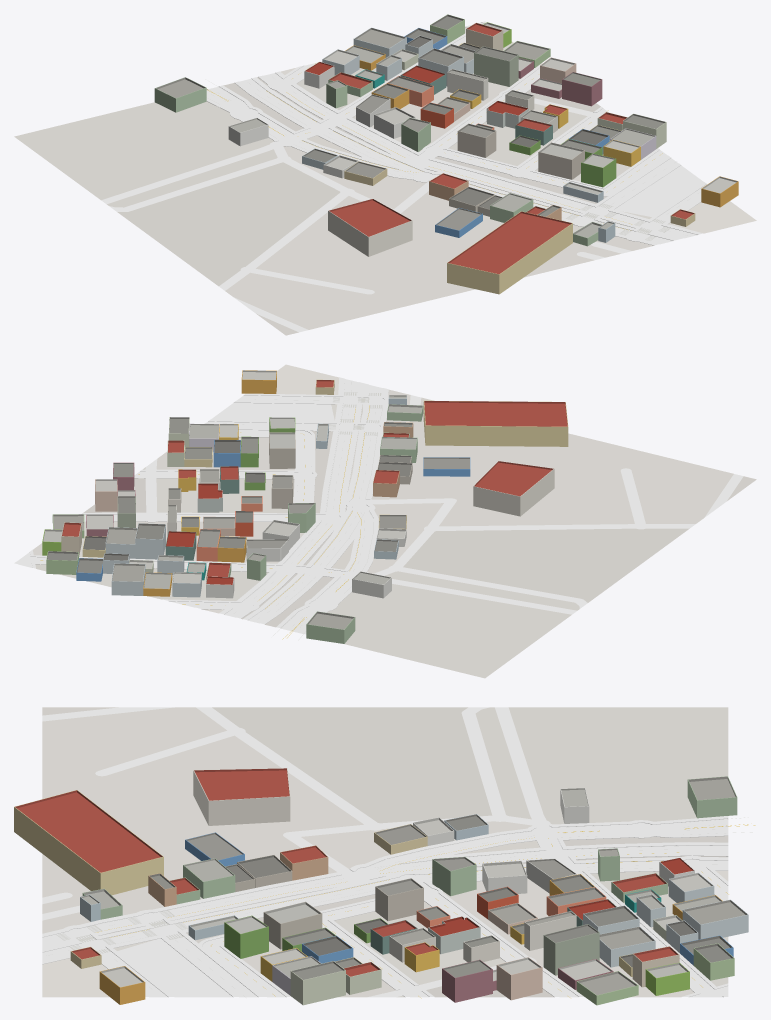
The picture shows the model from 3 angles, top to bottom: view 1: azimuth 30°, elevation 25°; view 2: azimuth 150°, elevation 25°; view 3: azimuth 270°, elevation 25°; orthographic projection. The views are drawn at different scales.
Parts seen in each view (by area): view 1: ground, walls, roofs, asphalt, sidewalk, grass, markings; view 2: ground, roofs, walls, asphalt, sidewalk, grass, markings; view 3: ground, walls, roofs, asphalt, sidewalk, grass, markings.
Boxes of the visible parts, x1,y1,x2,y2 form: ground: (14, 27, 756, 335); walls: (154, 20, 738, 294); roofs: (155, 14, 738, 274); asphalt: (101, 22, 706, 332); sidewalk: (206, 21, 706, 245); grass: (615, 165, 703, 216); markings: (205, 43, 698, 240); ground: (33, 364, 756, 678); roofs: (42, 370, 568, 629); walls: (42, 374, 568, 643); asphalt: (16, 379, 743, 633); sidewalk: (14, 377, 388, 634); grass: (211, 403, 334, 421); markings: (40, 382, 382, 640); ground: (42, 707, 728, 997); walls: (14, 771, 748, 1005); roofs: (14, 768, 748, 995); asphalt: (42, 707, 728, 997); sidewalk: (42, 816, 728, 996); grass: (117, 938, 232, 997); markings: (46, 817, 755, 998).
Size of what is drawn, in the model's own units: 257 by 13.01 by 271.
